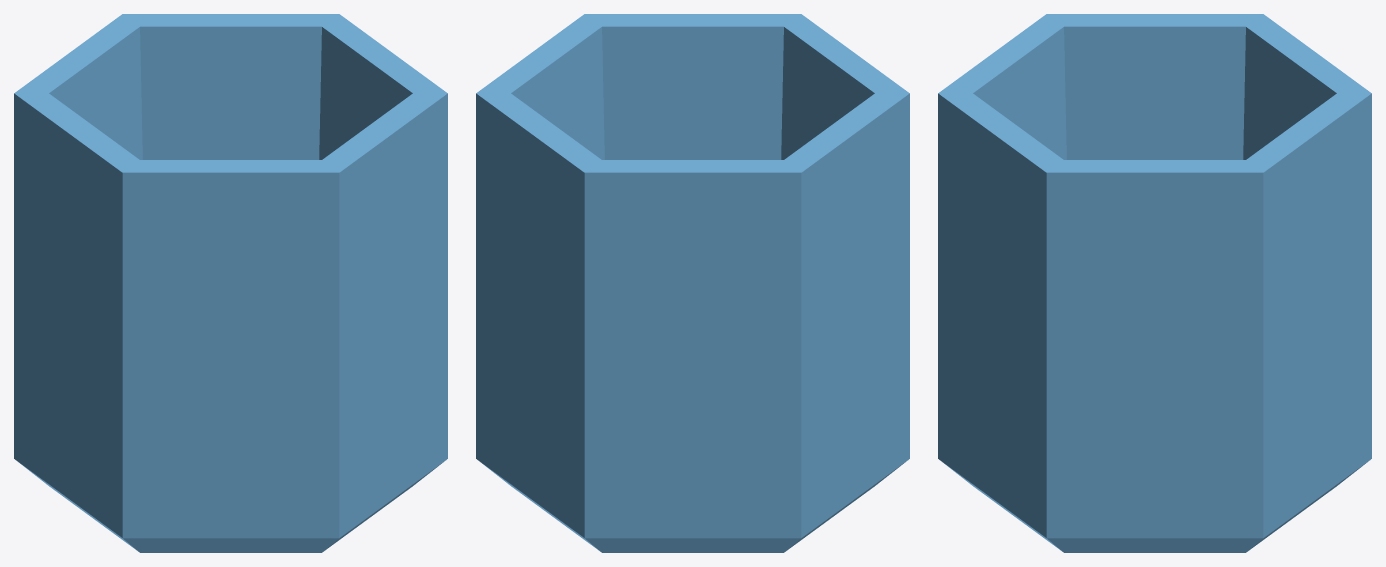
File: Glass.fbx
3 views of the same model, side by side, from view 1: azimuth 30°, elevation 25°; view 2: azimuth 150°, elevation 25°; view 3: azimuth 270°, elevation 25° (orthographic).
Visible parts, largest first — view 1: Glass; view 2: Glass; view 3: Glass.
Part boxes in pixels (box(x1,y1,x2,y2)): Glass: box(14, 14, 447, 552); Glass: box(476, 14, 909, 552); Glass: box(938, 14, 1371, 552).
Bounding box in the file's own units: 24.44 × 28.22 × 28.22.
